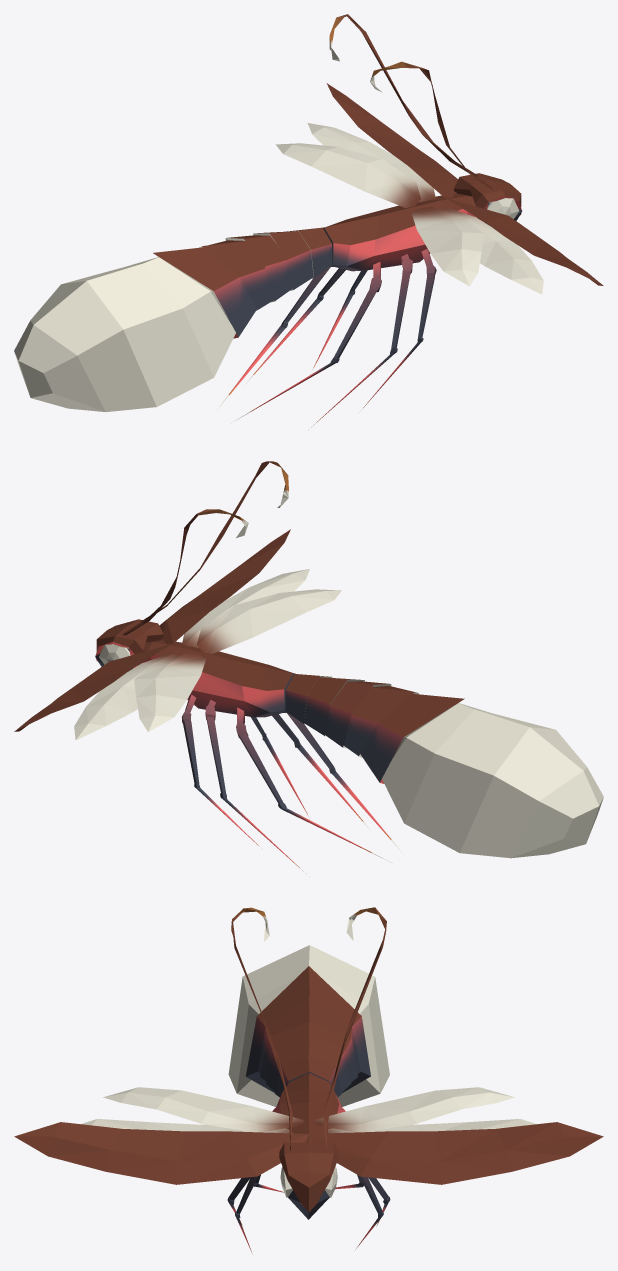
File: Sketchfab_2023_02_22_14_45_04.obj
The picture shows the model from 3 angles, top to bottom: view 1: azimuth 30°, elevation 25°; view 2: azimuth 150°, elevation 25°; view 3: azimuth 270°, elevation 25°; orthographic projection. The views are drawn at different scales.
Parts seen in each view (by area): view 1: Firefly; view 2: Firefly; view 3: Firefly.
Boxes of the visible parts, x1=… form: Firefly: x1=14, y1=14, x2=603, y2=429; Firefly: x1=14, y1=461, x2=603, y2=876; Firefly: x1=14, y1=907, x2=603, y2=1254.
Bounding box in the file's own units: 4.75 × 3.14 × 4.54.
